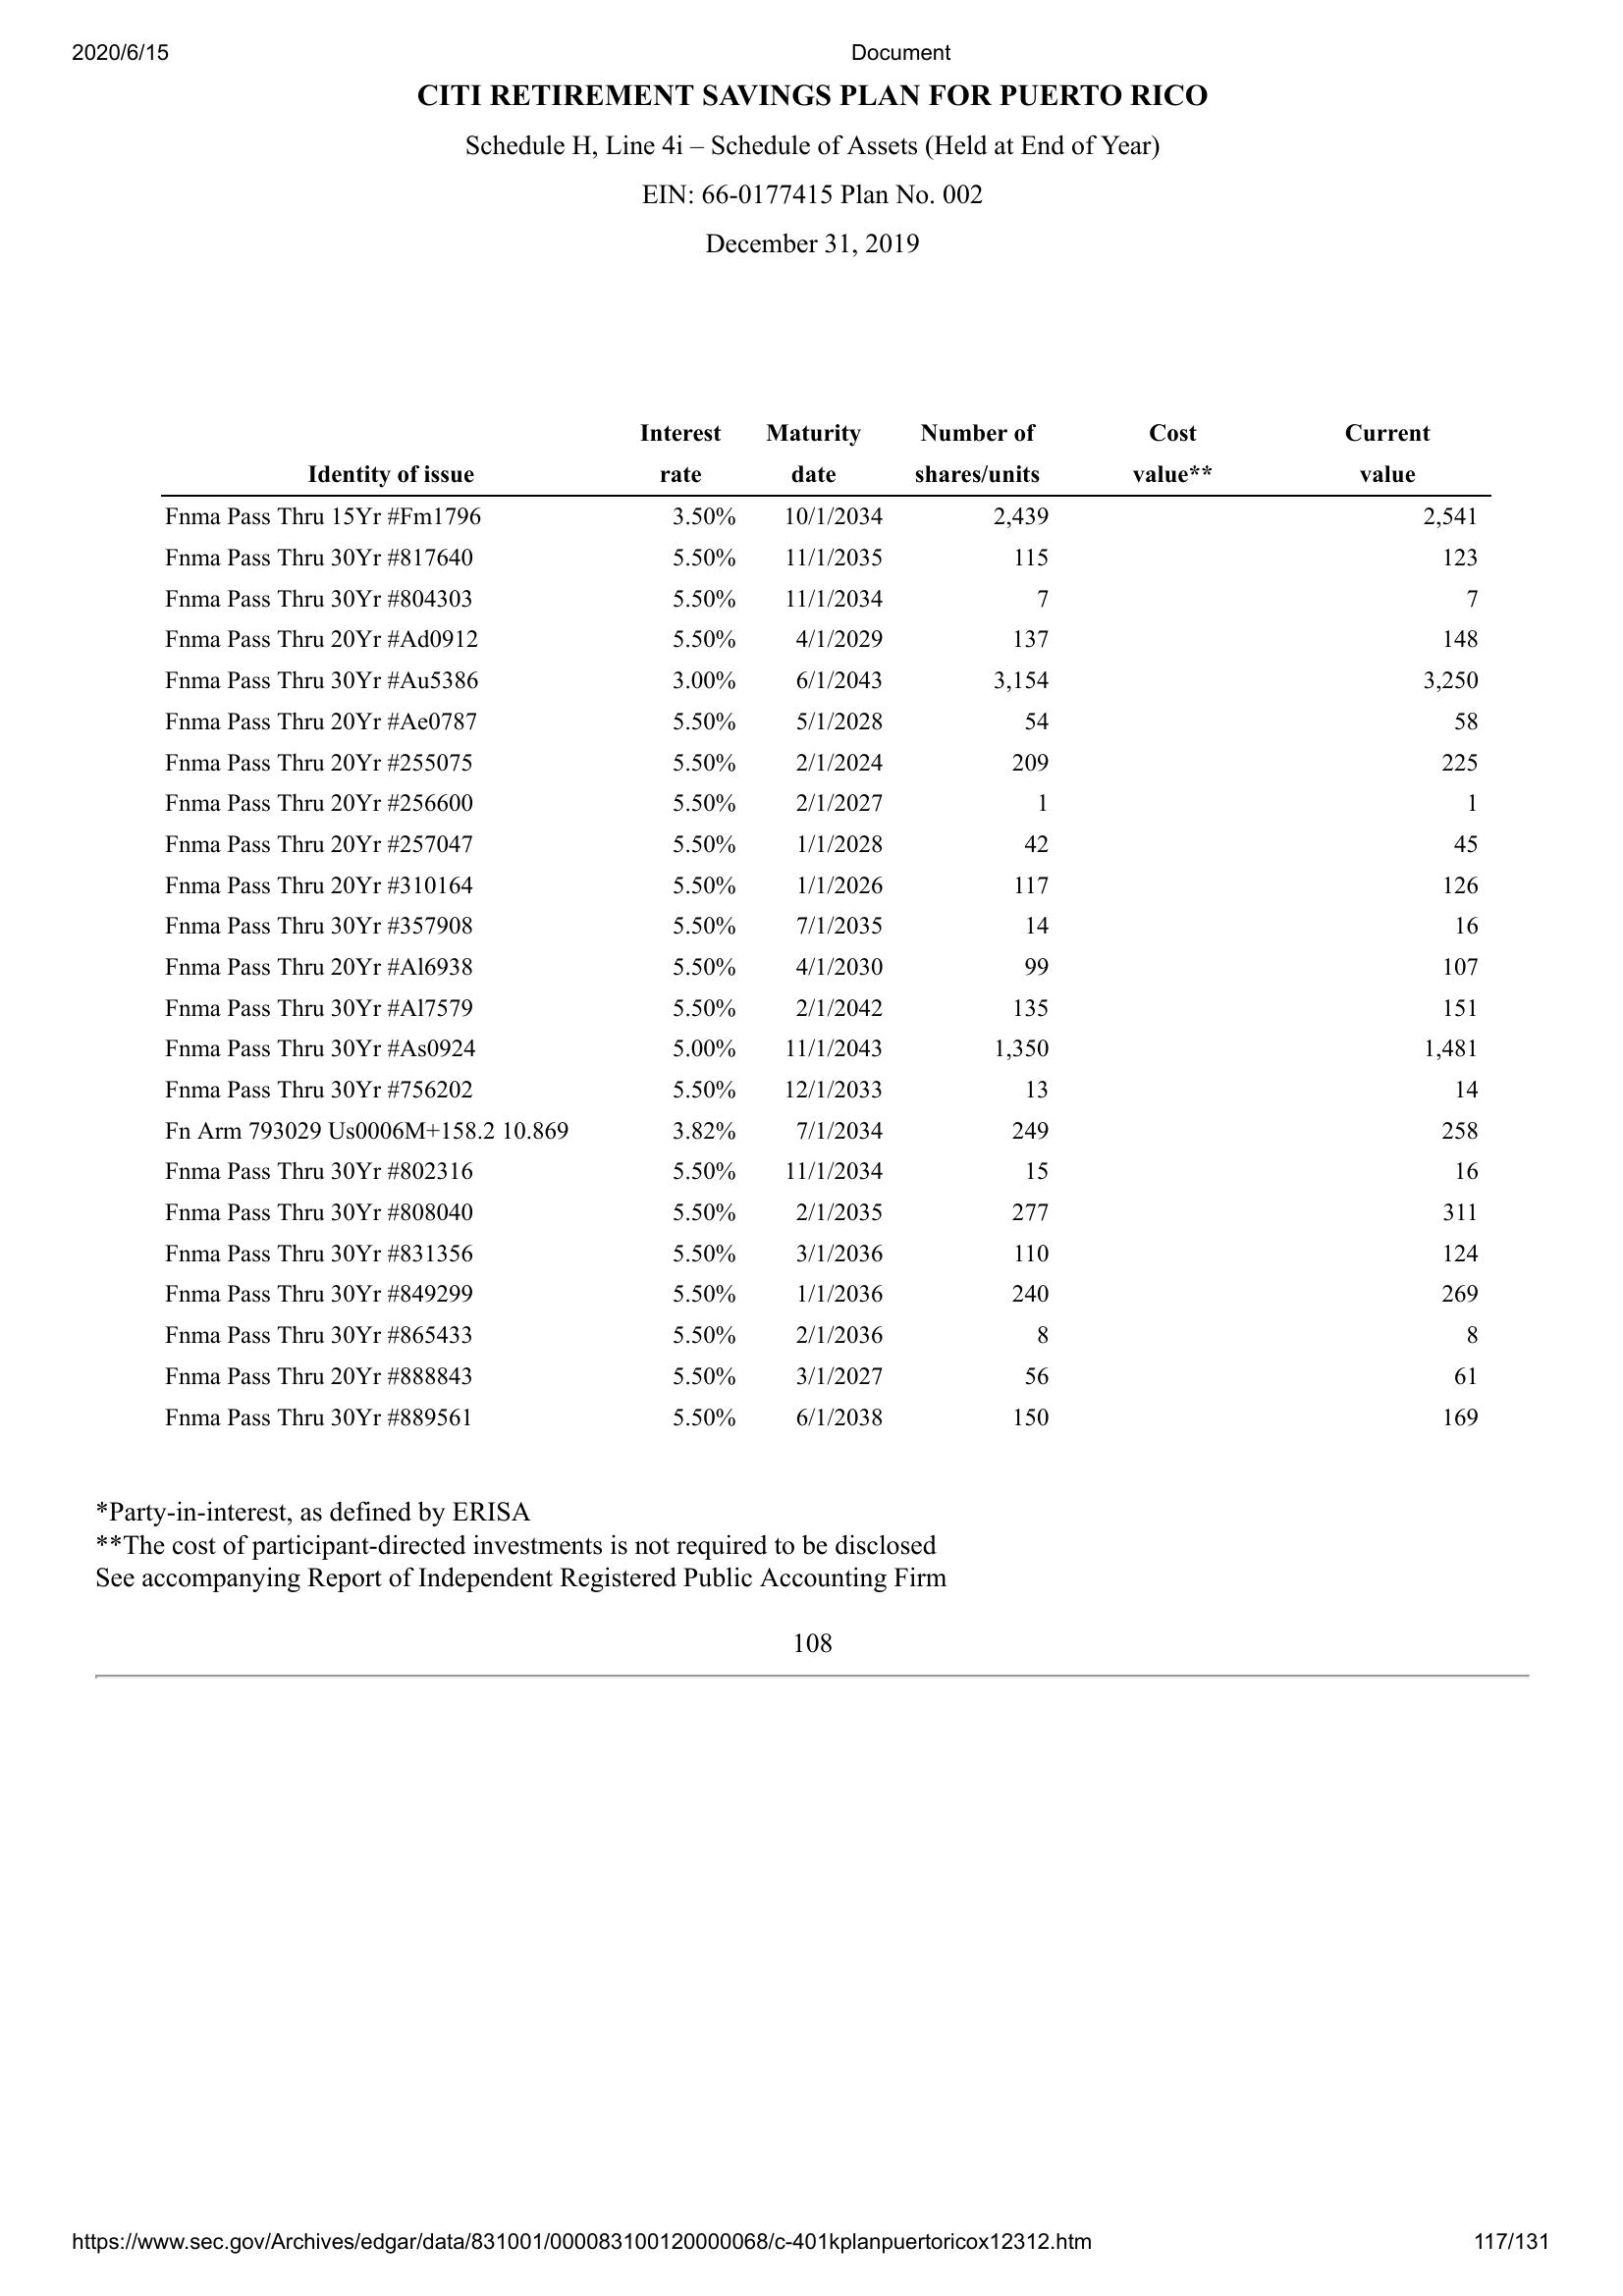table: (155, 418, 1495, 1439)
